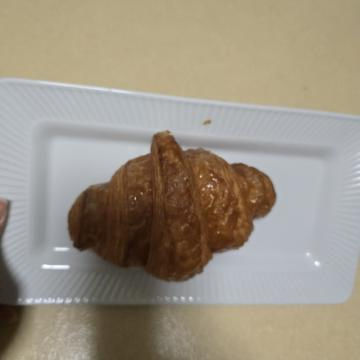croissant: (113, 77, 299, 304)
